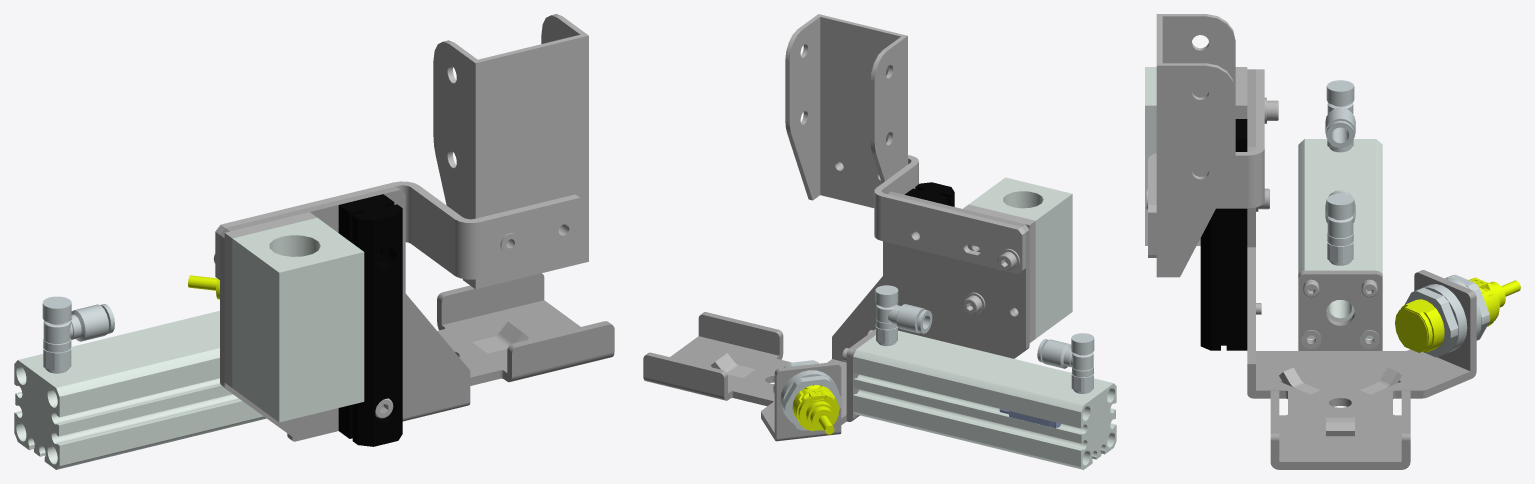
Rendered from Module_nang_ha_old.glb.
The picture shows the model from 3 angles, left to right: view 1: azimuth 30°, elevation 25°; view 2: azimuth 150°, elevation 25°; view 3: azimuth 270°, elevation 25°; orthographic projection. The views are drawn at different scales.
Parts seen in each view (by area): view 1: Module_nang_ha-Ga_dau_nhua_boc, Module_nang_ha-Xylanh_day_phoi-Xylanh, Module_nang_ha-Xylanh_nang_ha-Xylanh, Module_nang_ha-Gia_chua_phoi, Module_nang_ha-Ga_nhua_boc, Module_nang_ha-Dinh_vi_gia_chua_phoi, Module_nang_ha-Dau_khi_nen, Module_nang_ha-Ga_gia_chua_phoi; view 2: Module_nang_ha-Gia_chua_phoi, Module_nang_ha-Xylanh_day_phoi-Xylanh, Module_nang_ha-Ga_dau_nhua_boc, Module_nang_ha-Ga_nhua_boc, Module_nang_ha-Xylanh_nang_ha-Xylanh, Module_nang_ha-Dau_khi_nen (×2), Module_nhan_dang-Cam_bien_E3FA, Module_nhan_dang-Cam_bien_E3FA-Ga, Module_nang_ha-Ga_gia_chua_phoi, Module_nang_ha-Dinh_vi_gia_chua_phoi; view 3: Module_nang_ha-Gia_chua_phoi, Module_nang_ha-Ga_dau_nhua_boc, Module_nang_ha-Xylanh_day_phoi-Xylanh, Module_nang_ha-Dinh_vi_gia_chua_phoi, Module_nang_ha-Dau_khi_nen (×2), Module_nang_ha-Ga_nhua_boc, Module_nhan_dang-Cam_bien_E3FA, Module_nhan_dang-Cam_bien_E3FA-Ga (×2), Module_nang_ha-Xylanh_nang_ha-Xylanh, Module_nang_ha-Ga_gia_chua_phoi.
Boxes of the visible parts, left/top/right/bottom form: Module_nang_ha-Ga_dau_nhua_boc: left=433, top=14, right=588, bottom=289; Module_nang_ha-Xylanh_day_phoi-Xylanh: left=14, top=310, right=266, bottom=469; Module_nang_ha-Xylanh_nang_ha-Xylanh: left=232, top=217, right=364, bottom=422; Module_nang_ha-Gia_chua_phoi: left=220, top=186, right=614, bottom=441; Module_nang_ha-Ga_nhua_boc: left=215, top=181, right=585, bottom=280; Module_nang_ha-Dinh_vi_gia_chua_phoi: left=338, top=194, right=402, bottom=446; Module_nang_ha-Dau_khi_nen: left=42, top=296, right=114, bottom=373; Module_nang_ha-Ga_gia_chua_phoi: left=224, top=212, right=316, bottom=387; Module_nang_ha-Gia_chua_phoi: left=643, top=191, right=1029, bottom=441; Module_nang_ha-Xylanh_day_phoi-Xylanh: left=853, top=330, right=1116, bottom=469; Module_nang_ha-Ga_dau_nhua_boc: left=785, top=14, right=907, bottom=207; Module_nang_ha-Ga_nhua_boc: left=837, top=155, right=1025, bottom=273; Module_nang_ha-Xylanh_nang_ha-Xylanh: left=969, top=177, right=1072, bottom=338; Module_nang_ha-Dau_khi_nen (×2): left=875, top=285, right=1094, bottom=393; Module_nhan_dang-Cam_bien_E3FA: left=792, top=385, right=839, bottom=434; Module_nhan_dang-Cam_bien_E3FA-Ga: left=780, top=370, right=842, bottom=430; Module_nang_ha-Ga_gia_chua_phoi: left=963, top=204, right=1035, bottom=342; Module_nang_ha-Dinh_vi_gia_chua_phoi: left=904, top=182, right=954, bottom=206; Module_nang_ha-Gia_chua_phoi: left=1247, top=69, right=1476, bottom=469; Module_nang_ha-Ga_dau_nhua_boc: left=1156, top=14, right=1235, bottom=277; Module_nang_ha-Xylanh_day_phoi-Xylanh: left=1298, top=139, right=1382, bottom=339; Module_nang_ha-Dinh_vi_gia_chua_phoi: left=1200, top=119, right=1247, bottom=350; Module_nang_ha-Dau_khi_nen (×2): left=1325, top=80, right=1355, bottom=265; Module_nang_ha-Ga_nhua_boc: left=1148, top=69, right=1264, bottom=257; Module_nhan_dang-Cam_bien_E3FA: left=1395, top=277, right=1520, bottom=352; Module_nhan_dang-Cam_bien_E3FA-Ga (×2): left=1404, top=274, right=1489, bottom=357; Module_nang_ha-Xylanh_nang_ha-Xylanh: left=1145, top=67, right=1200, bottom=245; Module_nang_ha-Ga_gia_chua_phoi: left=1235, top=67, right=1247, bottom=118.
Bounding box in the file's own units: 0.2 × 0.138 × 0.1289.
